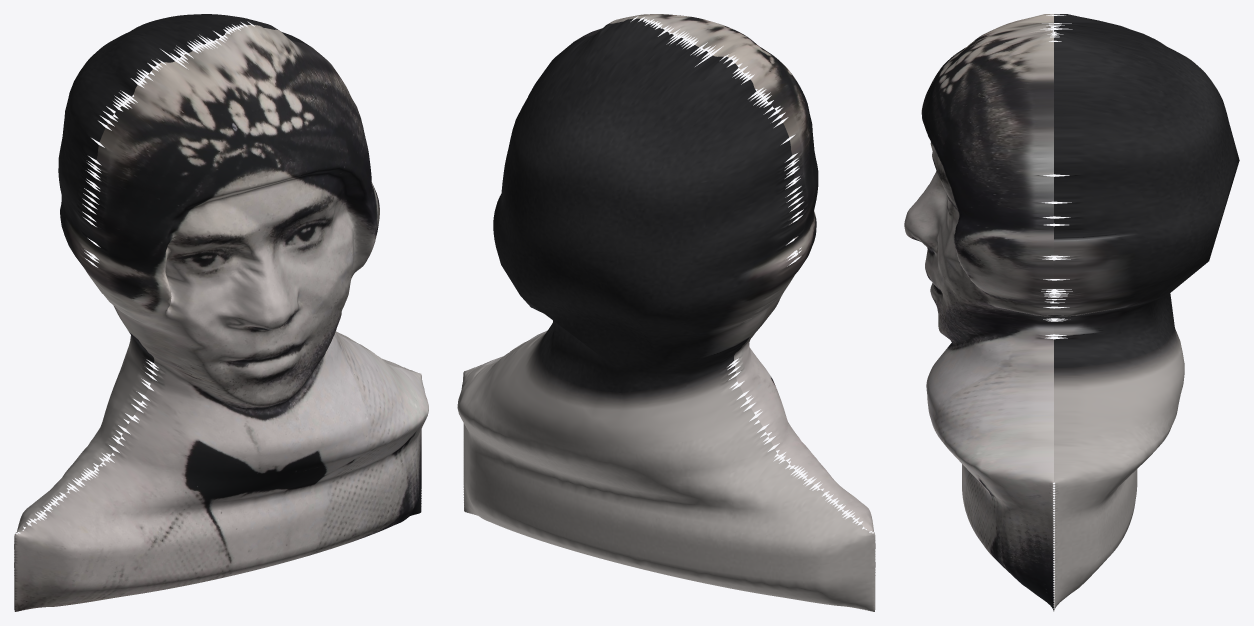
The model's file is sukarno.glb.
3 views of the same model, side by side, from view 1: azimuth 30°, elevation 25°; view 2: azimuth 150°, elevation 25°; view 3: azimuth 270°, elevation 25° (orthographic). The views are drawn at different scales.
Parts seen in each view (by area): view 1: Sukarno_bust; view 2: Sukarno_bust; view 3: Sukarno_bust.
Part boxes in pixels (<box>): Sukarno_bust: <box>14,14,428,611</box>; Sukarno_bust: <box>457,14,875,611</box>; Sukarno_bust: <box>904,14,1239,611</box>.
Size of the model in its own units: 0.2933 by 0.3657 by 0.2243.
Materials: 2 (2 with a texture image).
